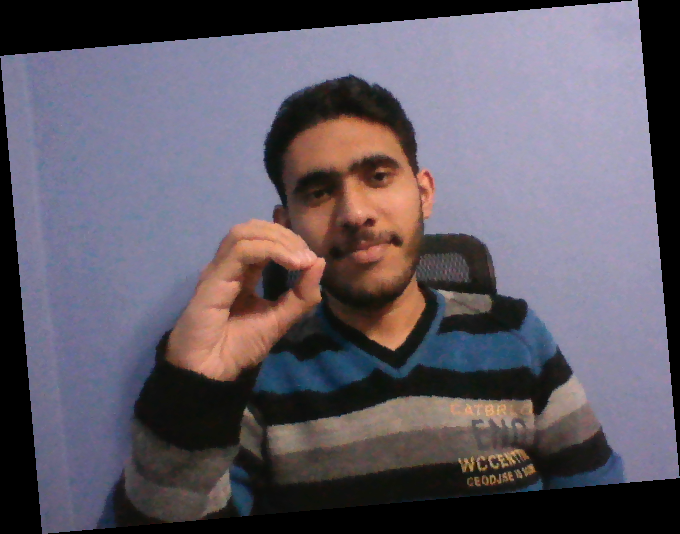O: (158, 216, 331, 388)
